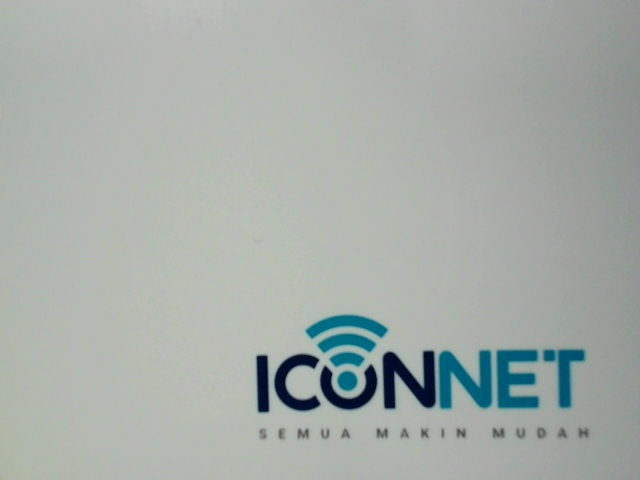BM_ICONNET: (231, 303, 602, 463)
